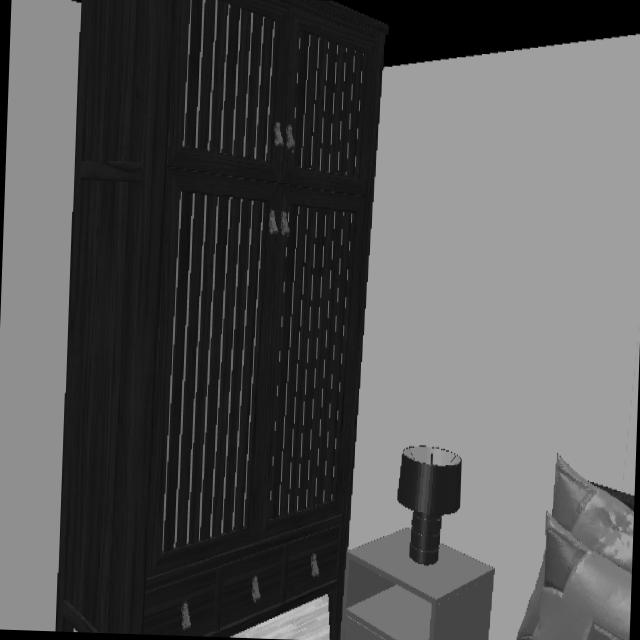lamp: (396, 445, 463, 567)
nighttable: (341, 529, 497, 640)
pillow: (513, 458, 634, 640)
wardrobe: (55, 0, 388, 640)
